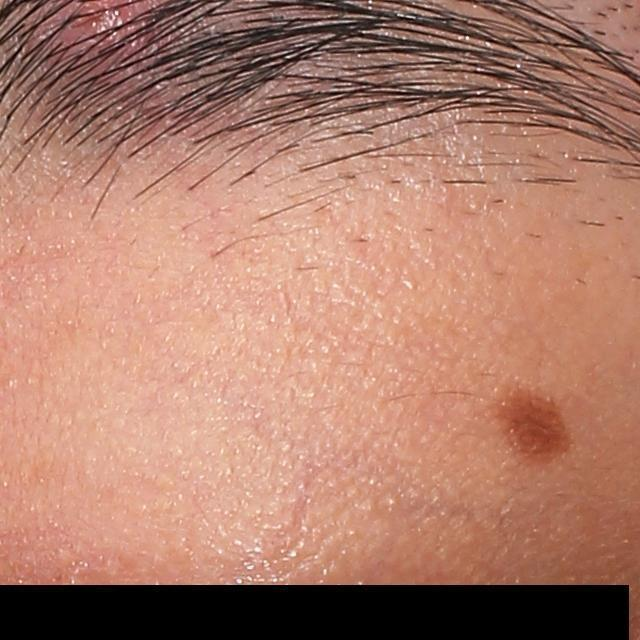nevus: (501, 391, 571, 461)
